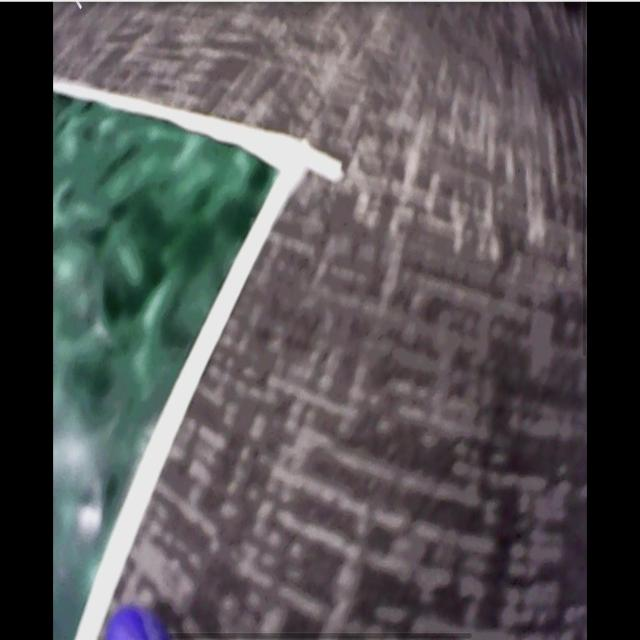ball: (105, 610, 175, 640)
